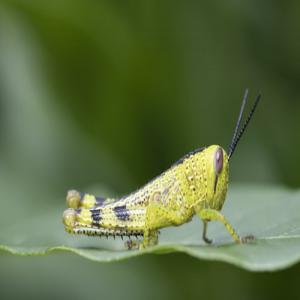locust: (68, 95, 272, 266)
